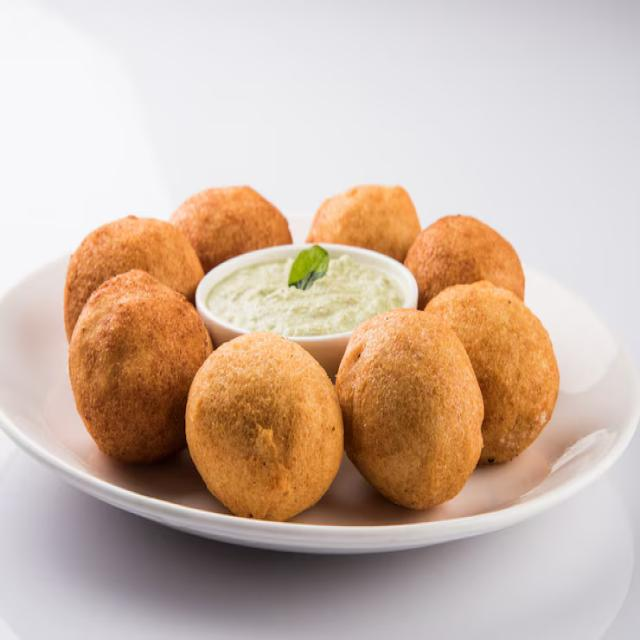BONDA: (47, 179, 560, 511), (195, 239, 418, 410)
WHITE CHUTNEY: (201, 262, 407, 354)
